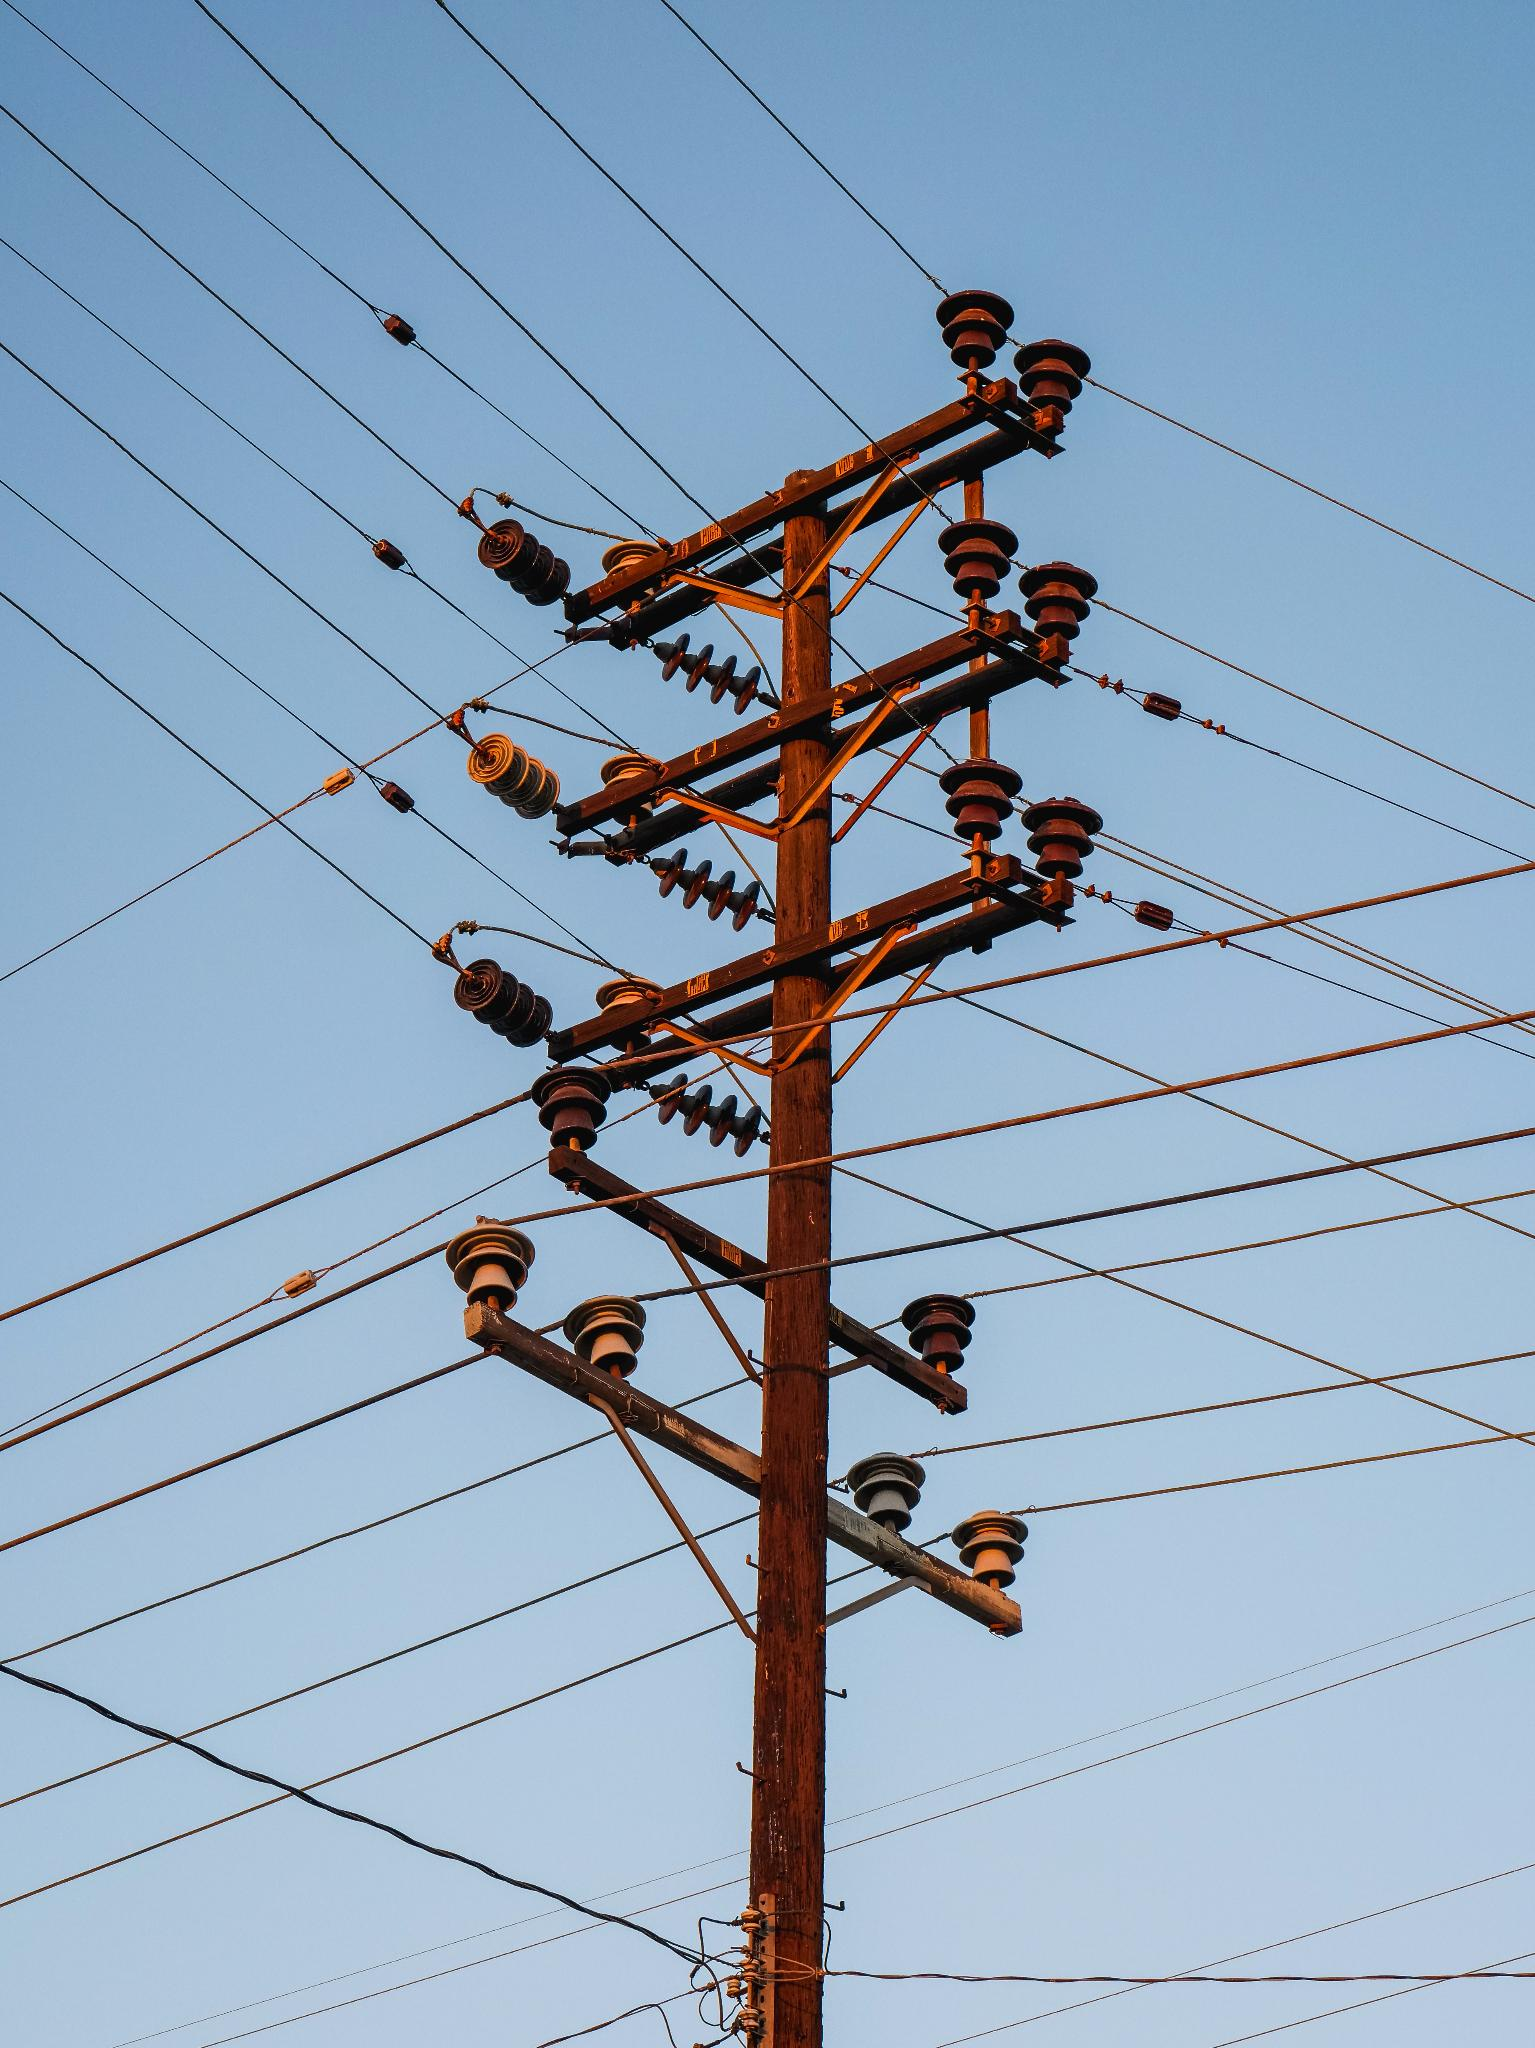cable tower: (376, 197, 1159, 2048)
